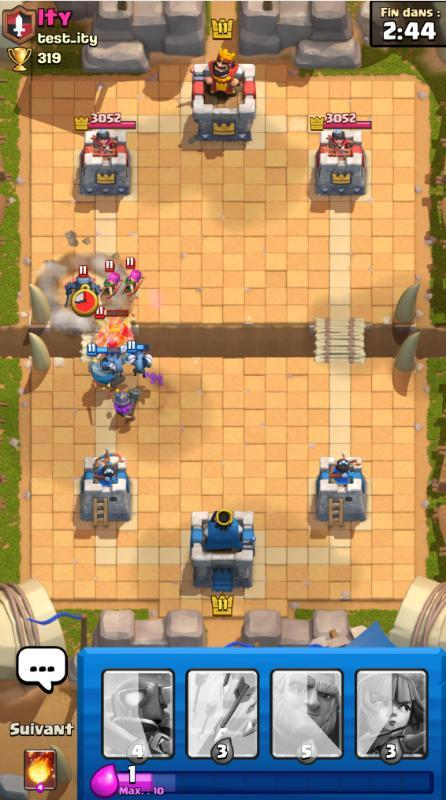archere: (121, 256, 146, 302), (100, 260, 124, 304)
chevalier: (94, 306, 134, 357), (87, 343, 126, 392)
gargouille: (125, 341, 154, 378), (101, 350, 126, 378)
mini_PEKKA: (64, 265, 103, 307)
mousquetaire: (114, 388, 142, 426)
